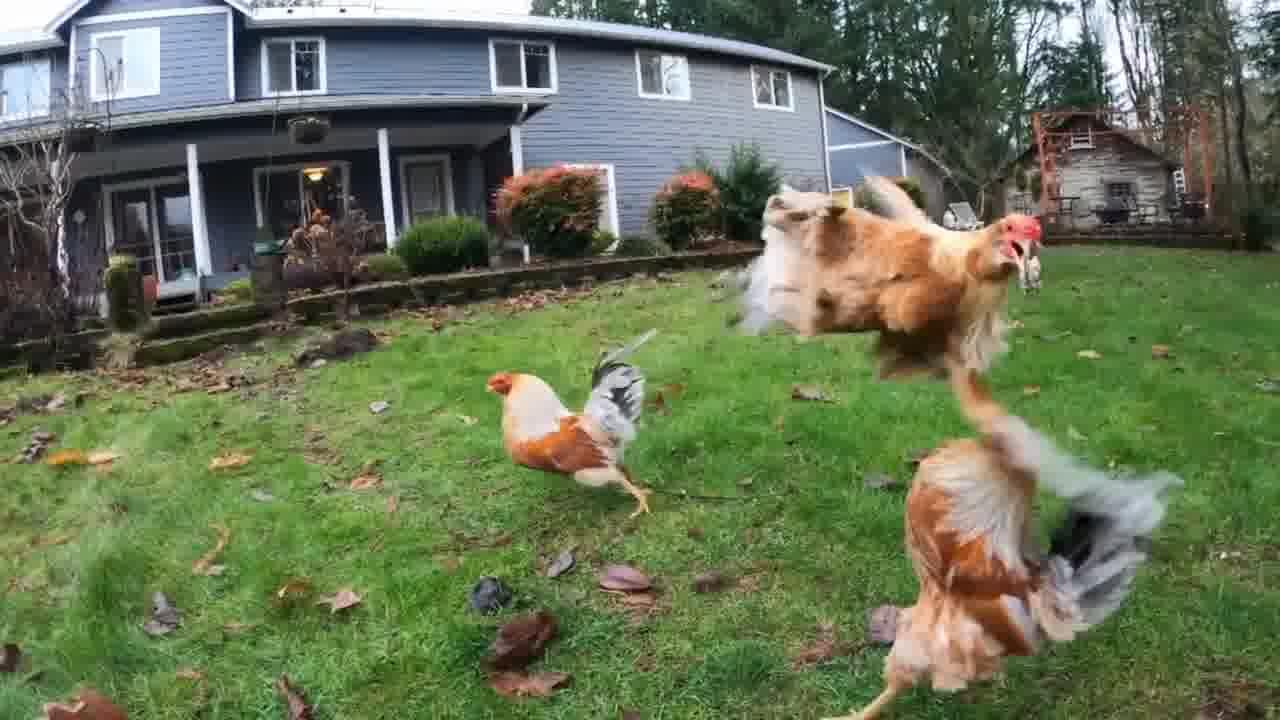Normal: (848, 358, 1190, 714), (720, 154, 1062, 388), (462, 340, 688, 526)
